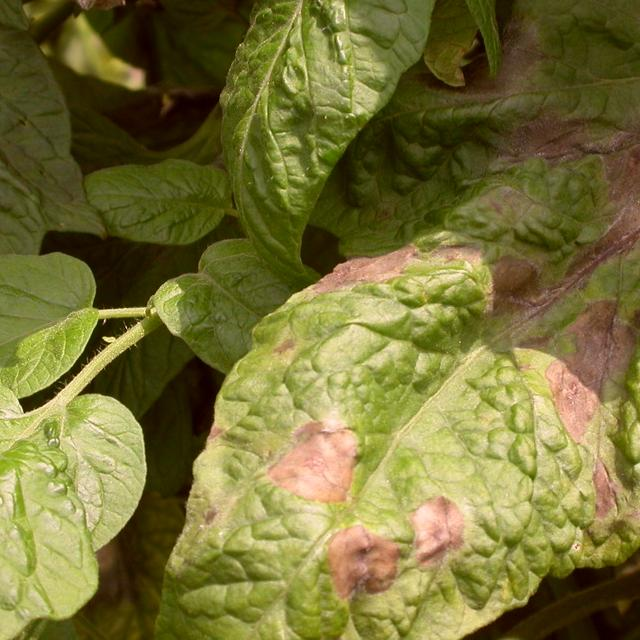Tomato leaf late blight: (161, 65, 640, 640), (0, 0, 87, 313)
